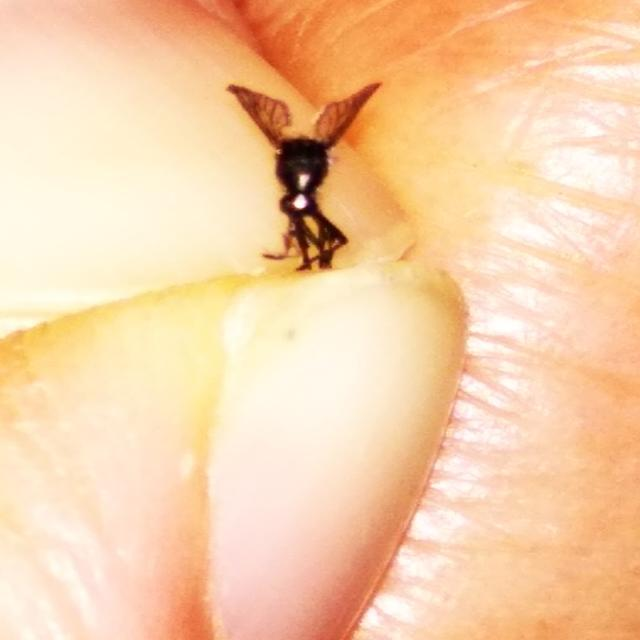albopictus: (203, 74, 385, 264)
